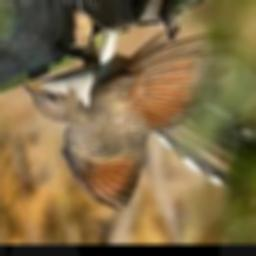Cuckoo: (19, 29, 256, 211)
